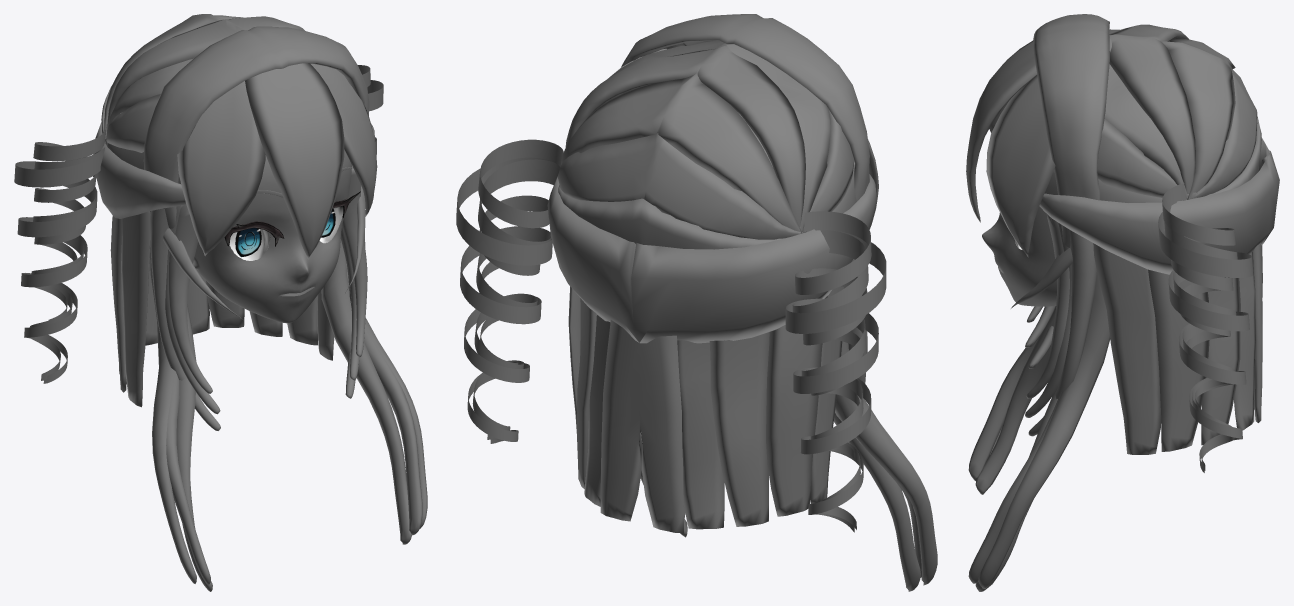
The model's file is Anime Hair 16.fbx.
3 views of the same model, side by side, from view 1: azimuth 30°, elevation 25°; view 2: azimuth 150°, elevation 25°; view 3: azimuth 270°, elevation 25° (orthographic). The views are drawn at different scales.
Parts seen in each view (by area): view 1: Front_parts13_101, Front_parts13_99, Front_parts13_104, Front_parts14_78, Front_parts13_103, PM3D_Plane3D1_46, Front_parts13_87, Front_parts13_102, Front_parts13_38, Front_parts13_40, Front_parts13_75, Front_parts13_70 (+15 smaller); view 2: Front_parts13_75, Front_parts13_91, PM3D_Plane3D1_46, Front_parts13_71, Front_parts13_79, Front_parts13_89, Front_parts13_70, Front_parts13_104, Front_parts13_90, PM3D_Plane3D1_47, Front_parts13_88, PM3D_Plane3D1_45 (+6 smaller); view 3: Front_parts13_104, Front_parts13_75, Front_parts13_87, Front_parts13_101, Front_parts13_70, Front_parts13_40, Front_parts13_71, Front_parts13_88, PM3D_Plane3D1_46, Front_parts14_78, Front_parts13_39, Front_parts13_102 (+15 smaller).
Boxes of the visible parts, box(x1,y1,x2,y2) form: Front_parts13_101: box(177, 63, 377, 255); Front_parts13_99: box(245, 63, 344, 259); Front_parts13_104: box(143, 26, 369, 228); Front_parts14_78: box(193, 149, 351, 323); Front_parts13_103: box(176, 239, 411, 591); PM3D_Plane3D1_46: box(14, 80, 383, 383); Front_parts13_87: box(121, 211, 334, 407); Front_parts13_102: box(166, 261, 422, 584); Front_parts13_38: box(169, 165, 367, 393); Front_parts13_40: box(149, 240, 427, 583); Front_parts13_75: box(93, 122, 374, 218); Front_parts13_70: box(107, 16, 304, 127); Front_parts13_75: box(547, 174, 876, 343); Front_parts13_91: box(600, 320, 683, 533); PM3D_Plane3D1_46: box(456, 157, 886, 532); Front_parts13_71: box(561, 72, 801, 233); Front_parts13_79: box(557, 133, 801, 239); Front_parts13_89: box(577, 298, 769, 526); Front_parts13_70: box(565, 45, 805, 227); Front_parts13_104: box(621, 14, 869, 201); Front_parts13_90: box(584, 315, 724, 529); PM3D_Plane3D1_47: box(472, 159, 868, 529); Front_parts13_88: box(568, 286, 827, 516); PM3D_Plane3D1_45: box(478, 139, 871, 459); Front_parts13_104: box(1033, 14, 1109, 247); Front_parts13_75: box(1039, 137, 1279, 274); Front_parts13_87: box(1093, 243, 1161, 454); Front_parts13_101: box(986, 75, 1055, 257); Front_parts13_70: box(1109, 24, 1195, 193); Front_parts13_40: box(978, 272, 1110, 588); Front_parts13_71: box(1160, 37, 1235, 199); Front_parts13_88: box(1148, 269, 1209, 451); PM3D_Plane3D1_46: box(1158, 212, 1253, 472); Front_parts14_78: box(982, 206, 1056, 306); Front_parts13_39: box(1028, 230, 1096, 436); Front_parts13_102: box(968, 338, 1061, 583).
Size of the model in its own units: 0.5016 by 0.671 by 0.369.
36 materials, 2 textured.
